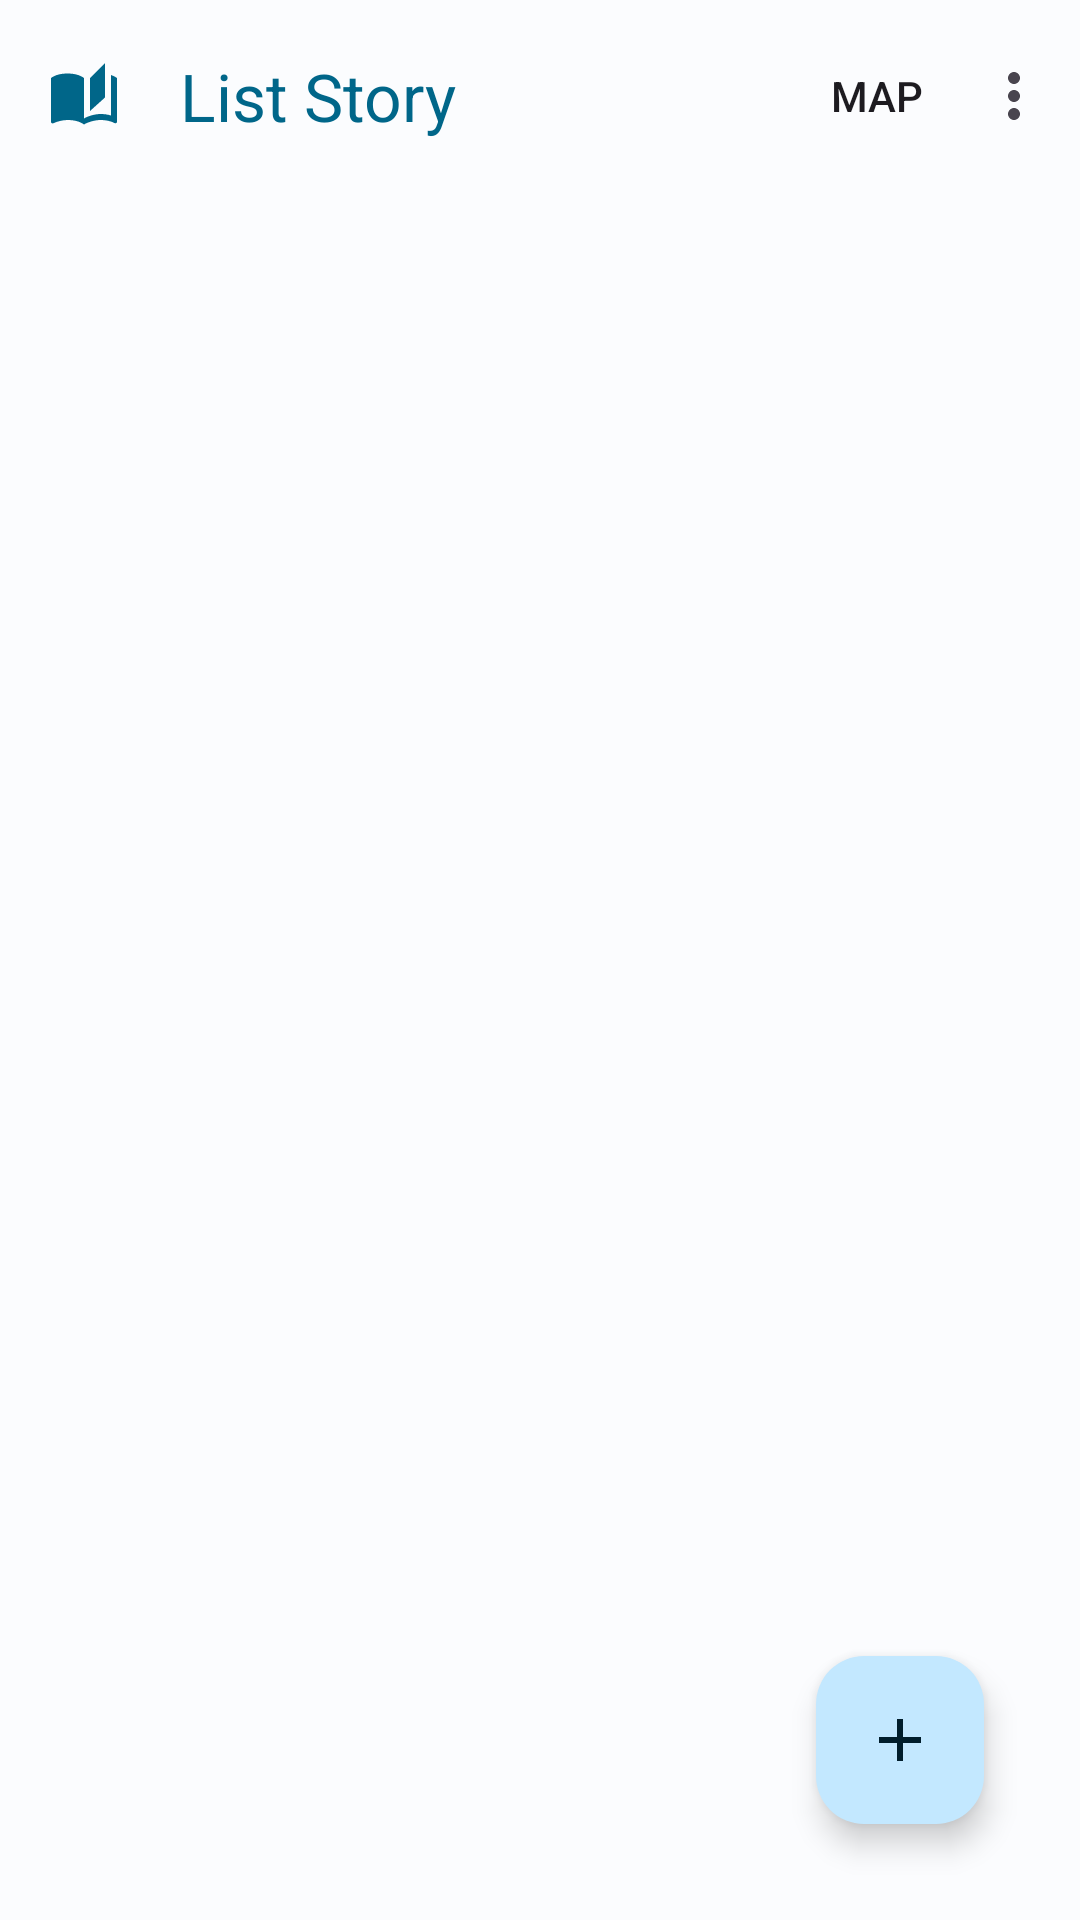

Where icons sit on this 1080w x 1920h app screen, as {"left": x1, "top": y1, "right": x2, "bottom": y2}:
Add Story Button: {"left": 816, "top": 1656, "right": 984, "bottom": 1824}
